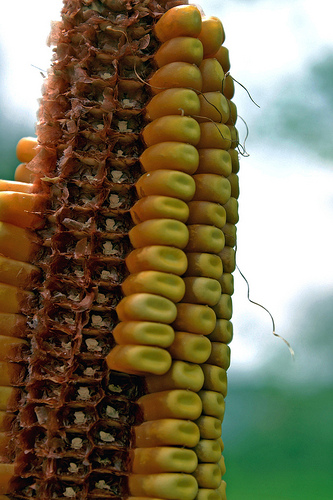corn: (0, 0, 239, 498)
